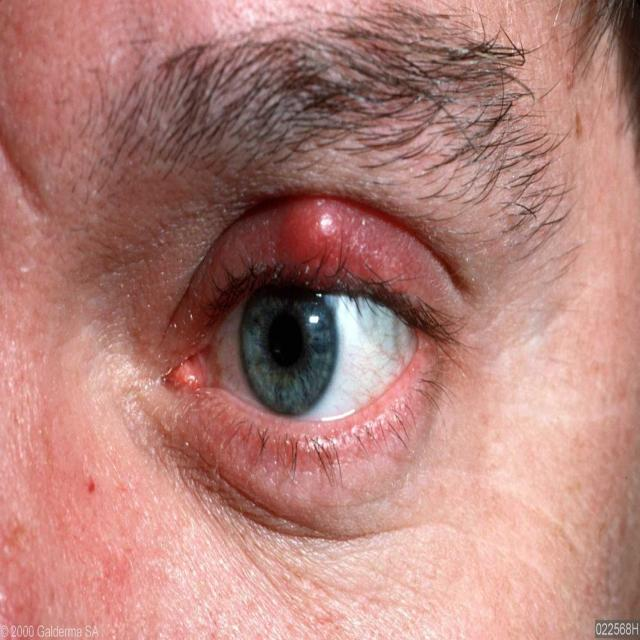Chalazion: (146, 156, 466, 515)
